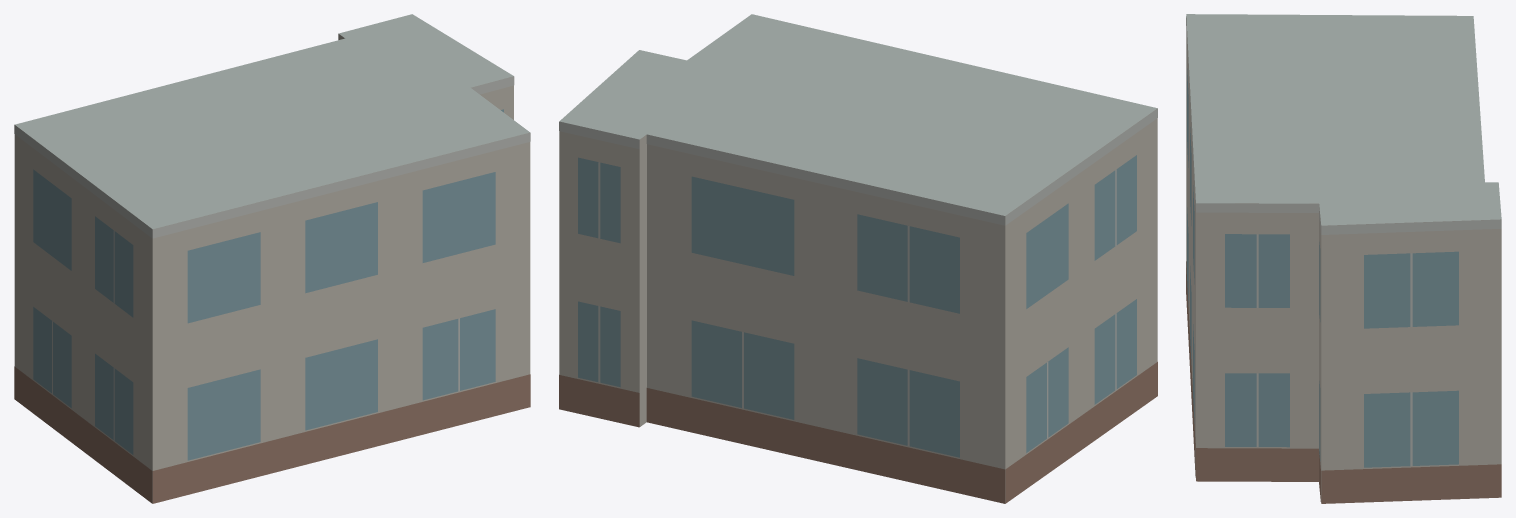
Rendered from survey-upis-32611496.glb.
3 renders of one model, left to right at view 1: azimuth 30°, elevation 25°; view 2: azimuth 150°, elevation 25°; view 3: azimuth 270°, elevation 25°, orthographic. The views are drawn at different scales.
Visible parts, largest first — view 1: survey-upis-32611496.tmp; view 2: survey-upis-32611496.tmp; view 3: survey-upis-32611496.tmp.
Boxes of the visible parts, bbox=[...] form: survey-upis-32611496.tmp: bbox=[14, 14, 530, 503]; survey-upis-32611496.tmp: bbox=[559, 14, 1157, 503]; survey-upis-32611496.tmp: bbox=[1186, 14, 1501, 503].
Bounding box in the file's own units: 11.76 × 7.2 × 7.41.
